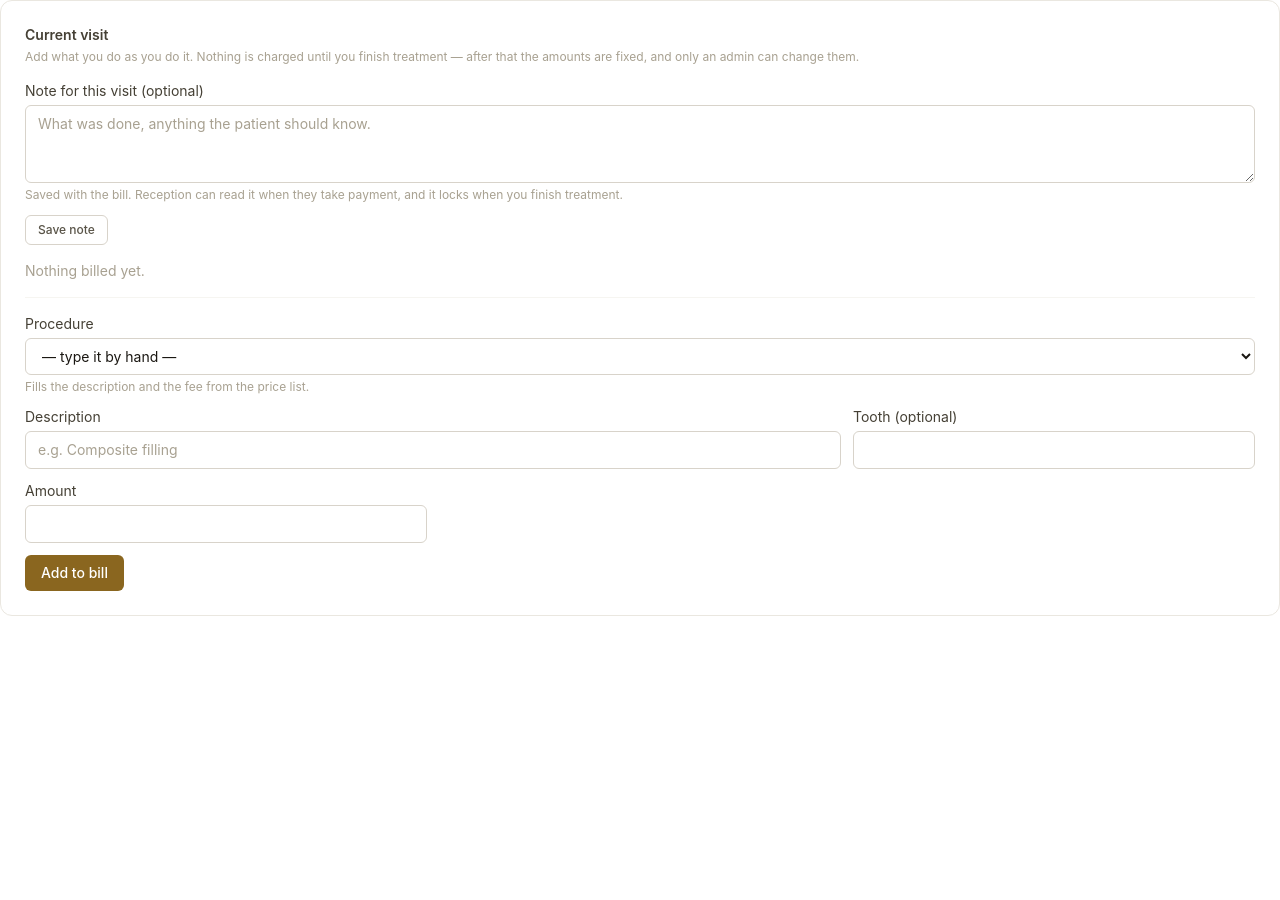
Test: ChairsideBilling › confirms the note saved, since nothing else would show it had
Check: the text box labelled "Note for this visit (optional)" is shown, box [25,105,1255,183]
Click the button "Save note": (66, 230) [25,215,108,245]
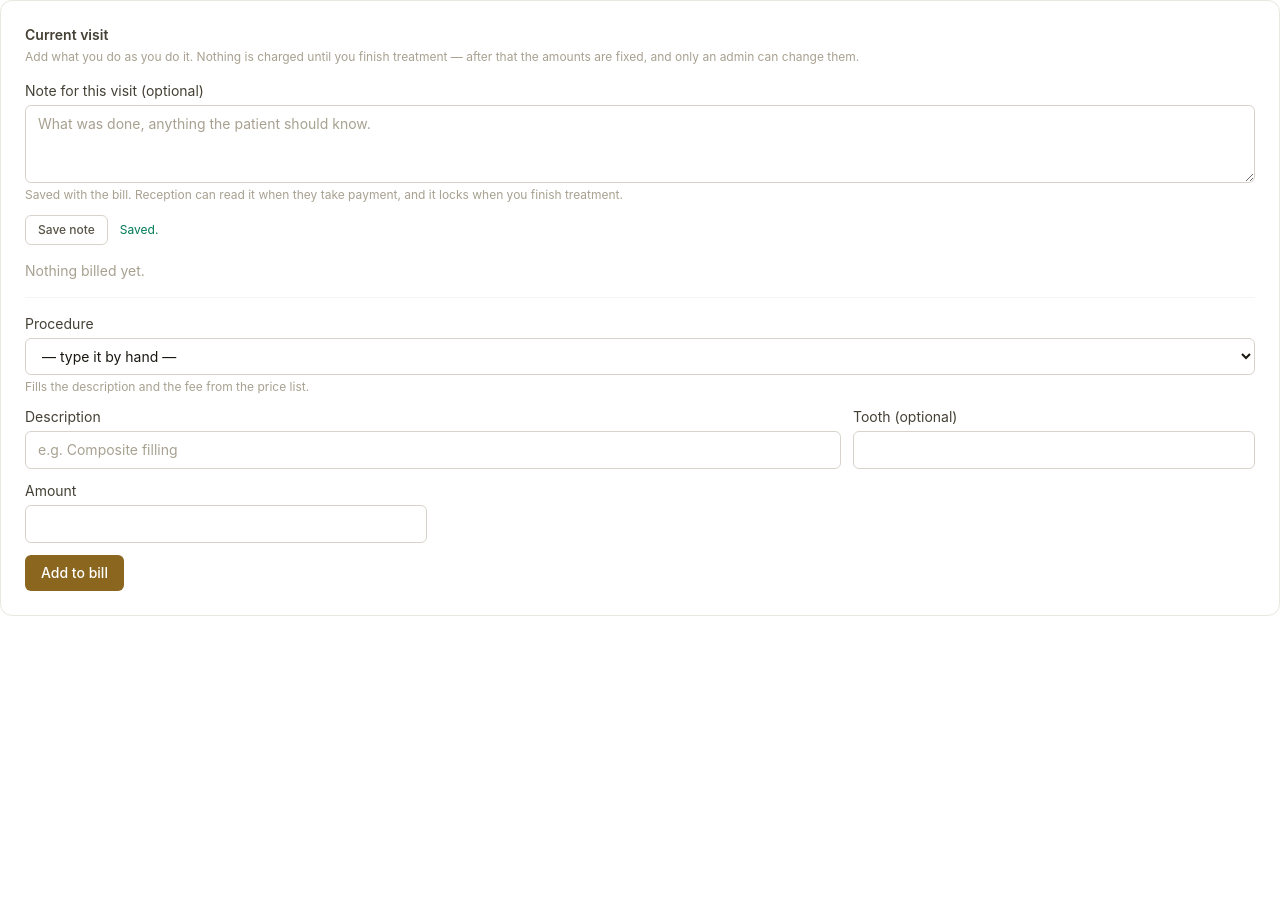
Check: the text "Saved." is shown, box [120,222,158,238]
